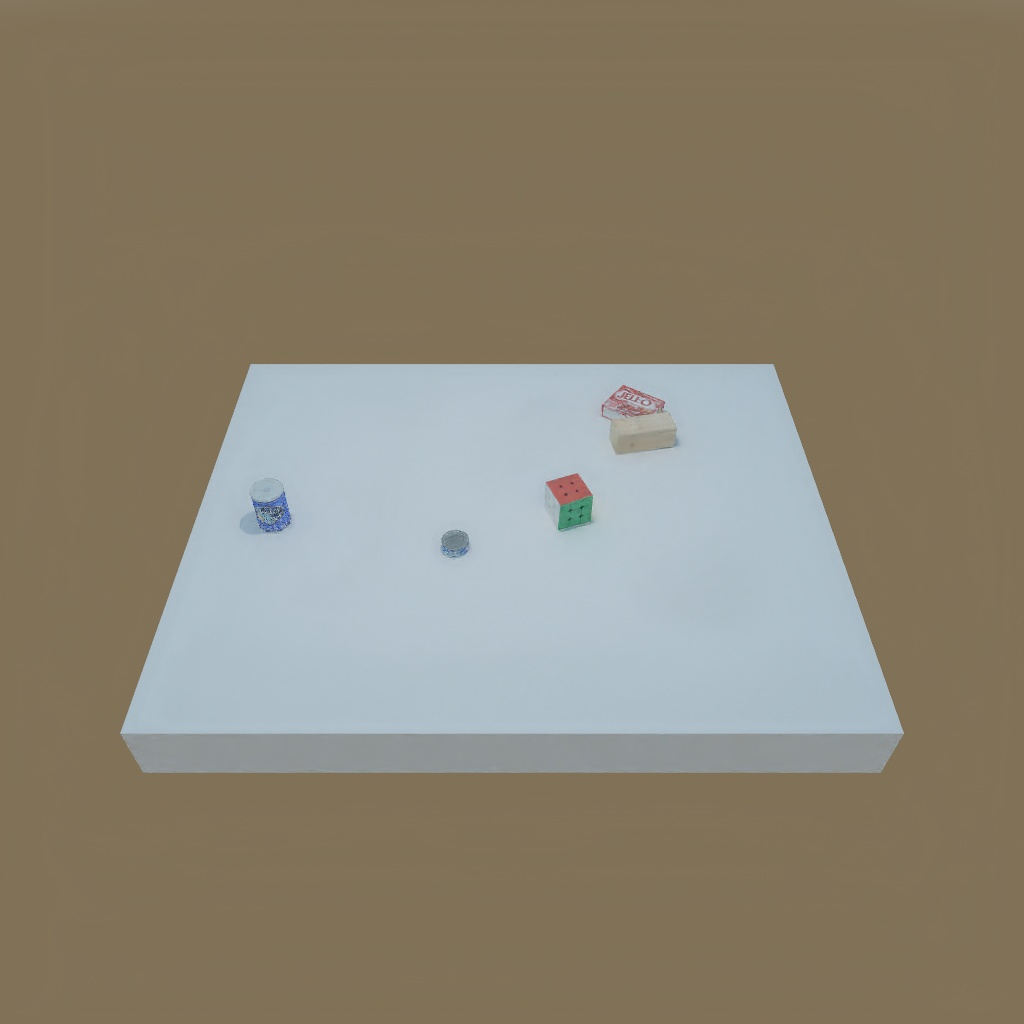gelatin_box: (601, 386, 666, 424)
master_chef_can: (248, 480, 298, 536)
rubiks_cube: (542, 471, 596, 534)
wood_block: (606, 412, 680, 454)
